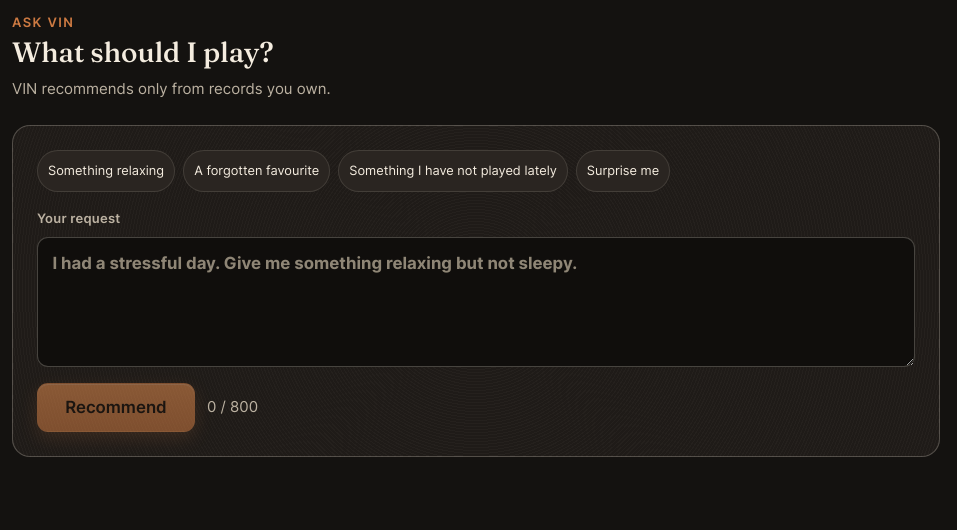
Test case: CuratorPanel › renders the fixed out-of-scope message and keeps the request form usable
This screenshot has width=957, height=530.
Type "write me a python script" into the text box labelled "Your request" at (476, 302), box [37,237,915,367]
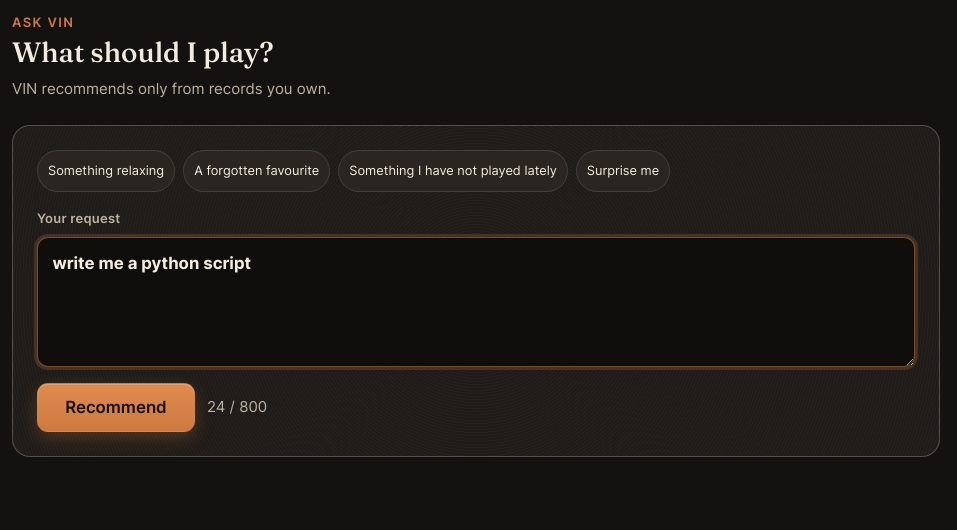
Click the button "Recommend" at (116, 408), box [37,383,195,432]
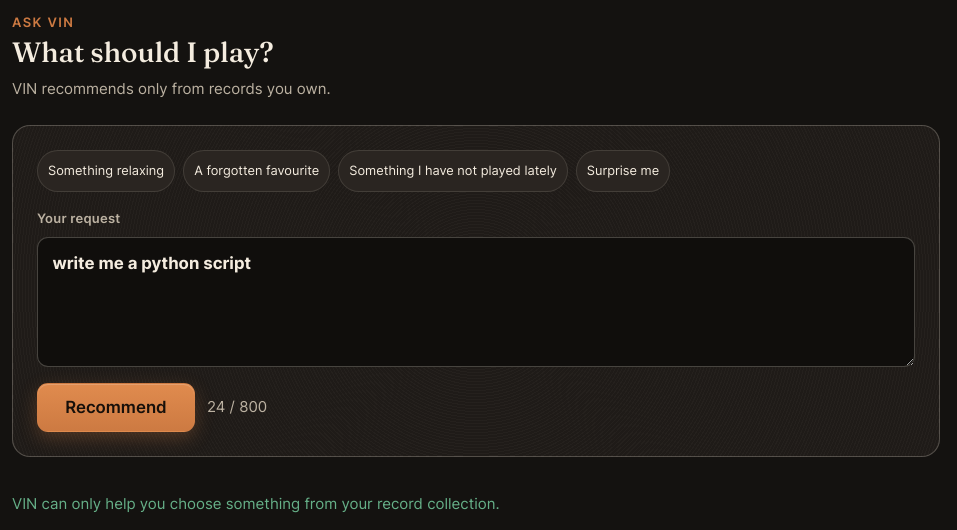
Expected: the button "Recommend" is enabled, [37,383,195,432]
Expected: the text "VIN can only help you choose something from your record collection." is shown, [12,494,500,513]
